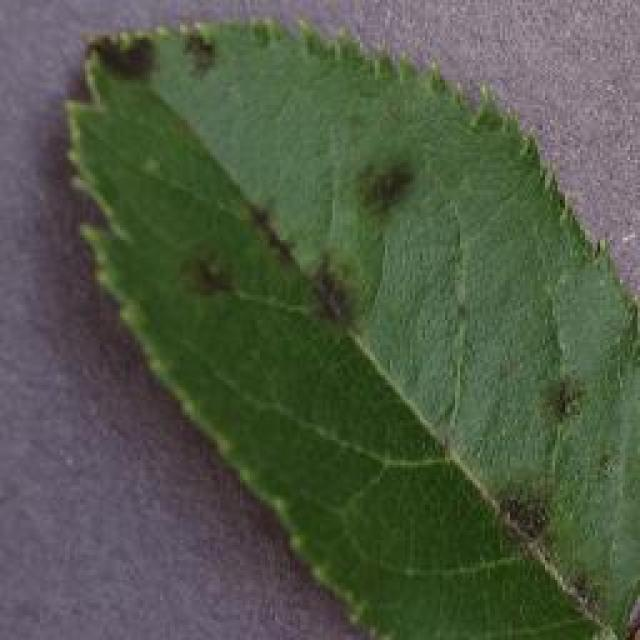apple scab disease: (60, 12, 638, 638)
